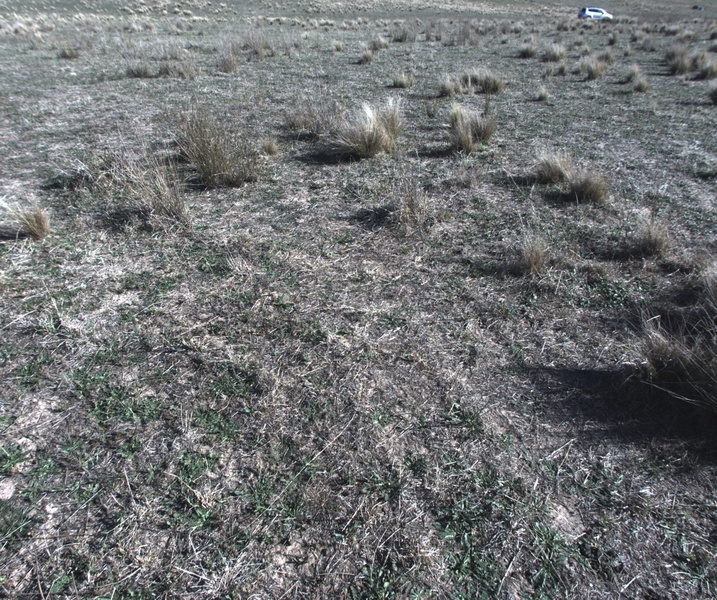st: (320, 92, 402, 152), (10, 186, 51, 240), (442, 108, 485, 150), (533, 143, 577, 183), (575, 167, 612, 204), (521, 228, 545, 273), (439, 71, 465, 103)
